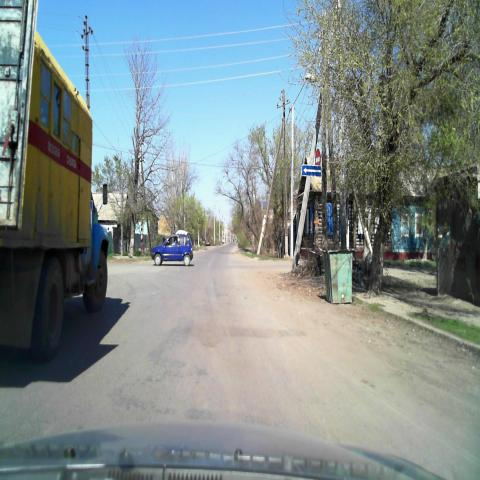5_7_2: (301, 164, 321, 176)
